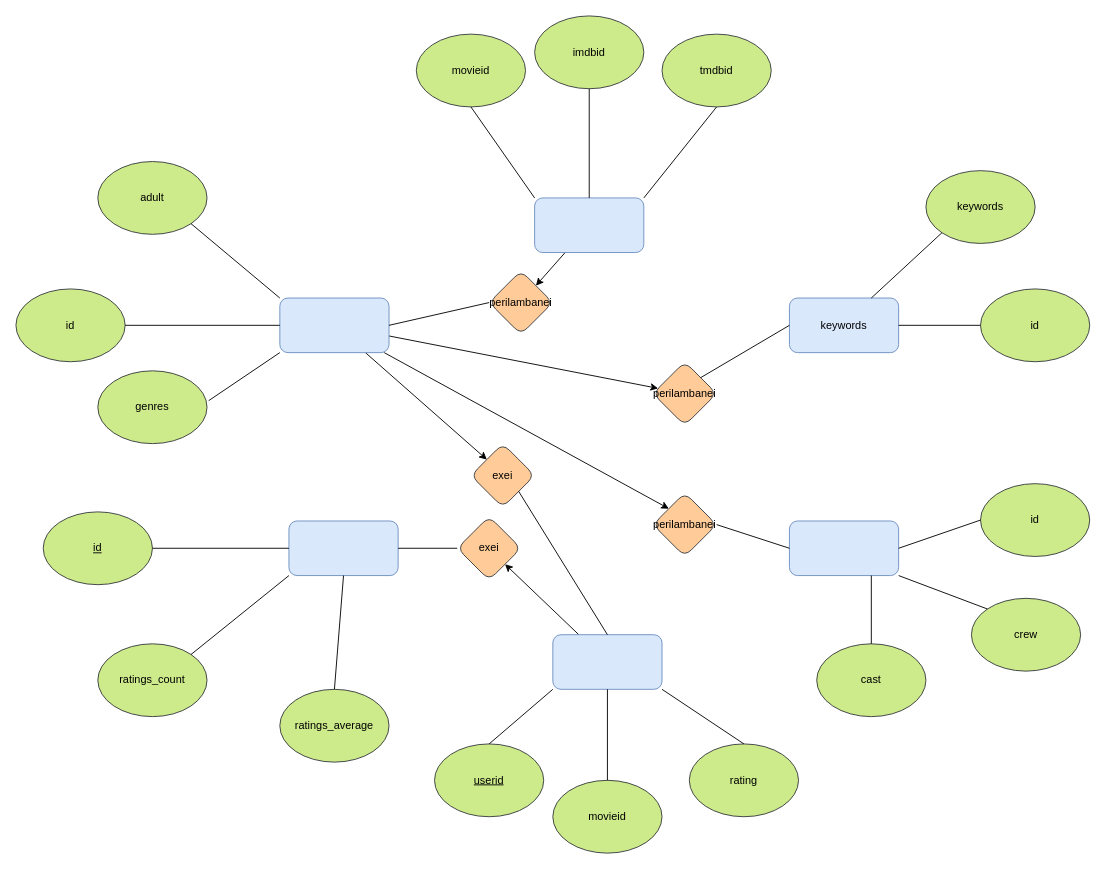
The diagram is 1106 pixels wide and 869 high, and some of its shapes have lost their labels. Each missing label, with the centre of its shape:
"credits" goes at pixel 844 548.
"links" goes at pixel 589 225.
"movies_metadata" goes at pixel 334 325.
"ratings_small" goes at pixel 607 661.
"view_table" goes at pixel 343 548.
